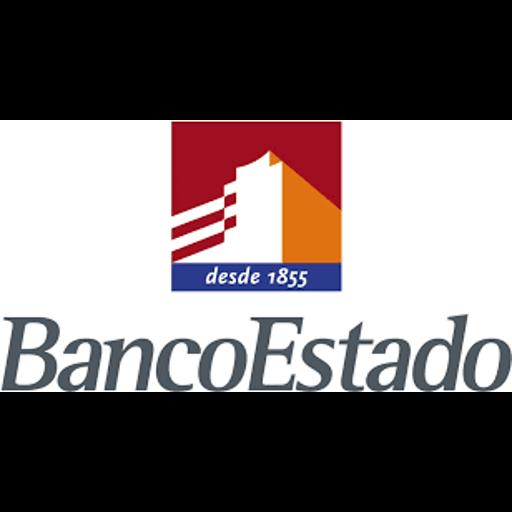Banco del Estado de Chile: (0, 120, 512, 392)
